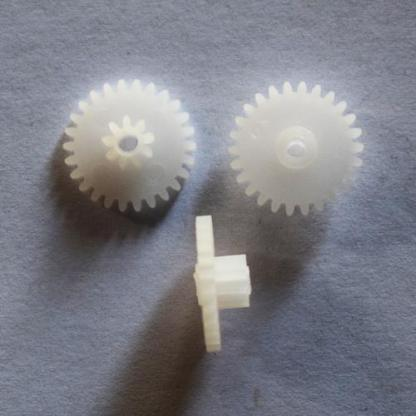FOD: (57, 74, 199, 217), (226, 78, 366, 221), (190, 213, 255, 359)
